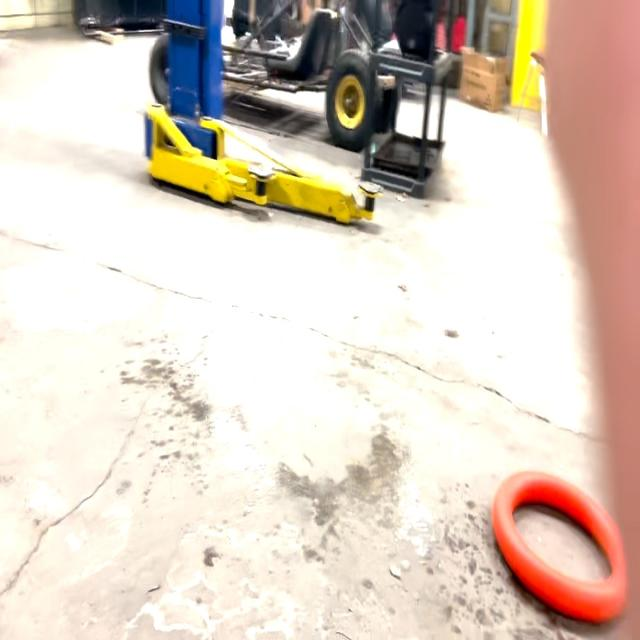note: (492, 456, 622, 576)
